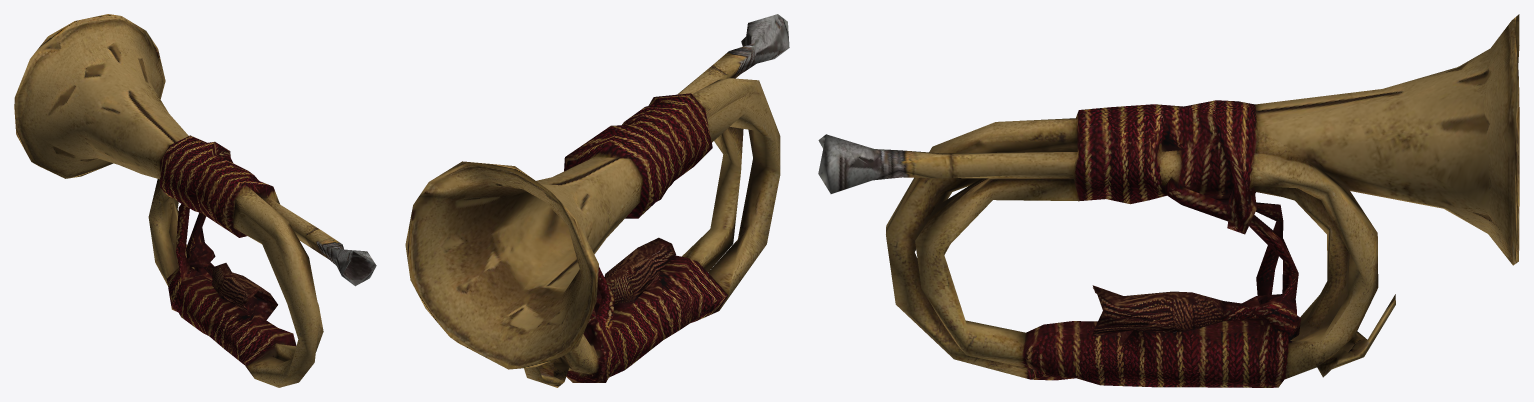
The model's file is prop_horn.glb.
The picture shows the model from 3 angles, left to right: view 1: azimuth 30°, elevation 25°; view 2: azimuth 150°, elevation 25°; view 3: azimuth 270°, elevation 25°; orthographic projection. The views are drawn at different scales.
Parts seen in each view (by area): view 1: tripo_node_f30d9d73-fe5e-49f6-8c31-e11e22bb03da; view 2: tripo_node_f30d9d73-fe5e-49f6-8c31-e11e22bb03da; view 3: tripo_node_f30d9d73-fe5e-49f6-8c31-e11e22bb03da.
Boxes of the visible parts, left/top/right/bottom form: tripo_node_f30d9d73-fe5e-49f6-8c31-e11e22bb03da: left=14, top=14, right=376, bottom=387; tripo_node_f30d9d73-fe5e-49f6-8c31-e11e22bb03da: left=405, top=14, right=789, bottom=387; tripo_node_f30d9d73-fe5e-49f6-8c31-e11e22bb03da: left=818, top=14, right=1519, bottom=387.
Size of the model in its own units: 0.3502 by 0.5365 by 0.9802.
Materials: 1 (1 with a texture image).
